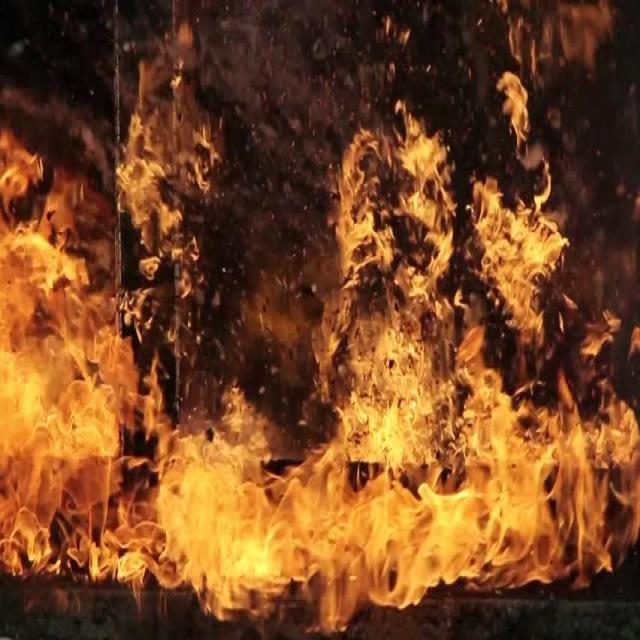Fire: (0, 12, 638, 639)
